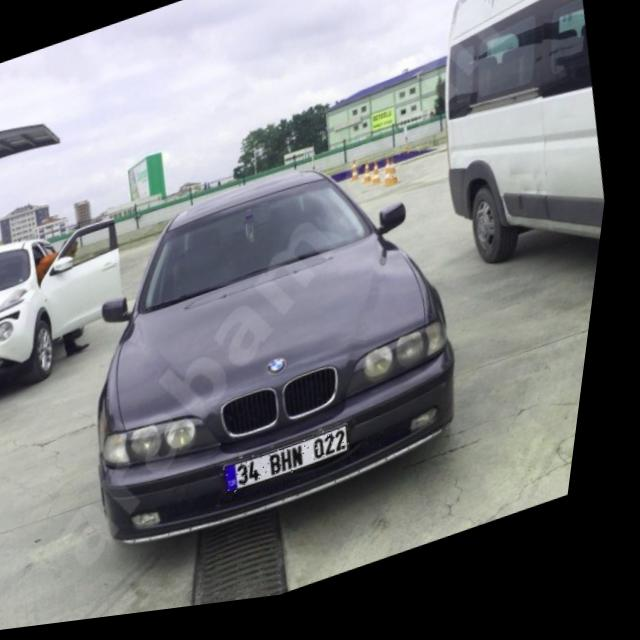license_plate: (232, 433, 366, 503)
